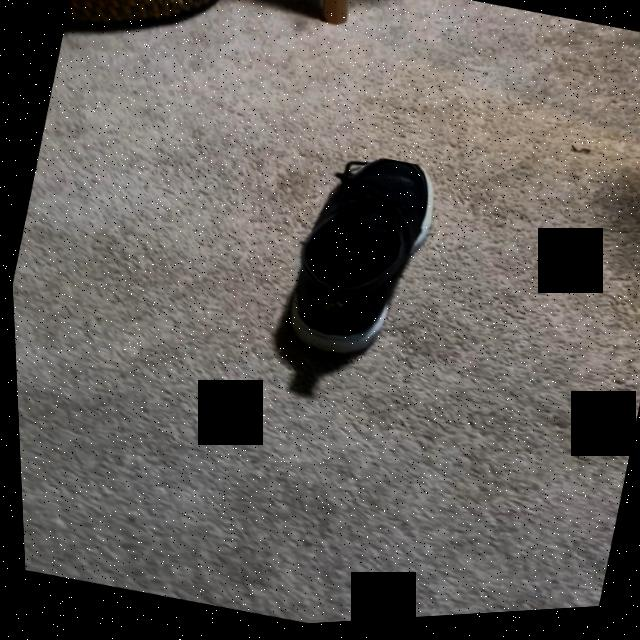shoe: (280, 163, 432, 365)
